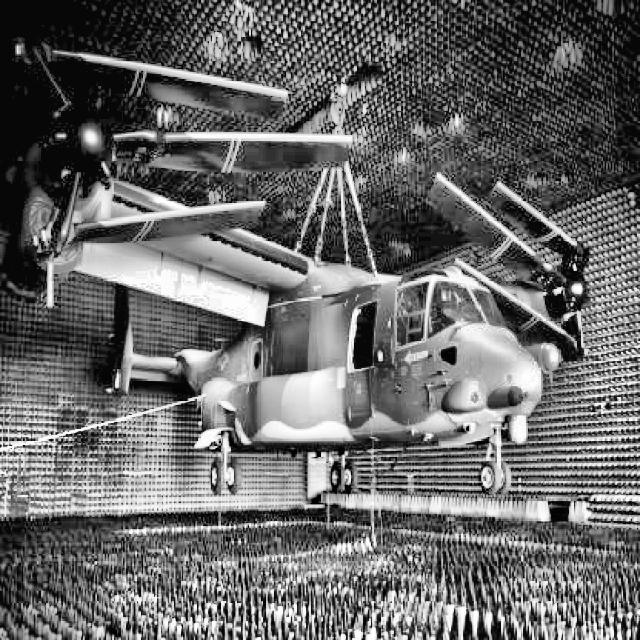V22: (0, 34, 591, 494)
